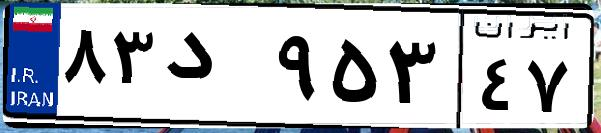3: (385, 28, 445, 110), (110, 28, 158, 98)
4: (475, 38, 525, 113)
5: (330, 28, 385, 110)
7: (525, 38, 570, 115)
8: (57, 26, 110, 100)
9: (270, 28, 330, 110)
د: (158, 20, 270, 120)
